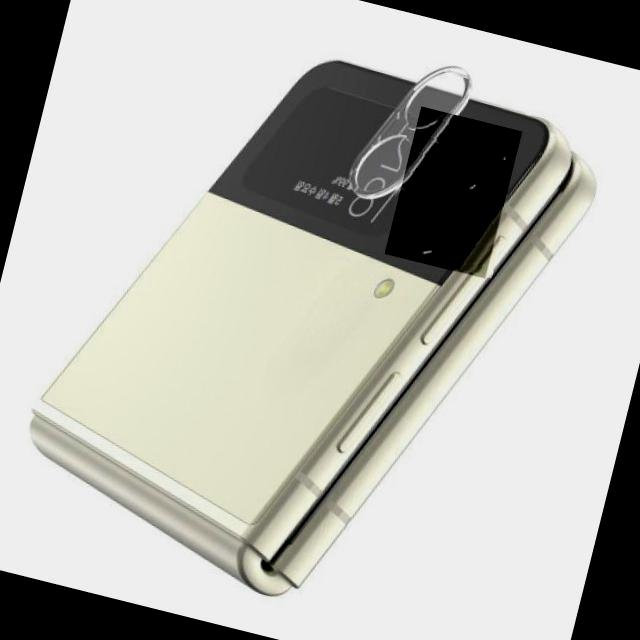phone: (30, 61, 598, 596)
